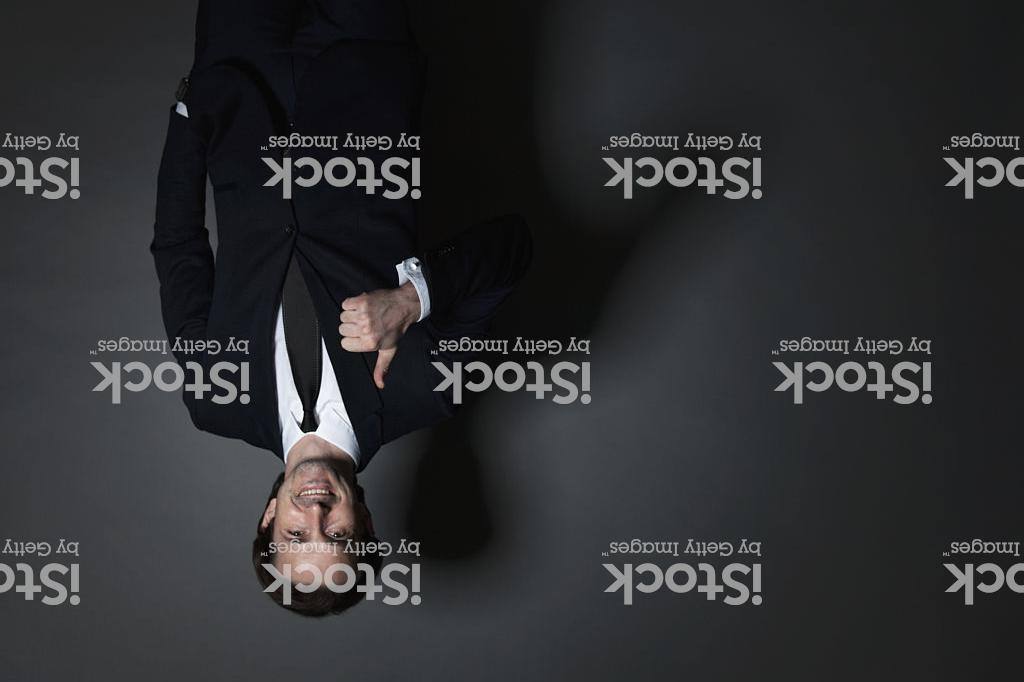thumbsdown: (337, 289, 400, 390)
